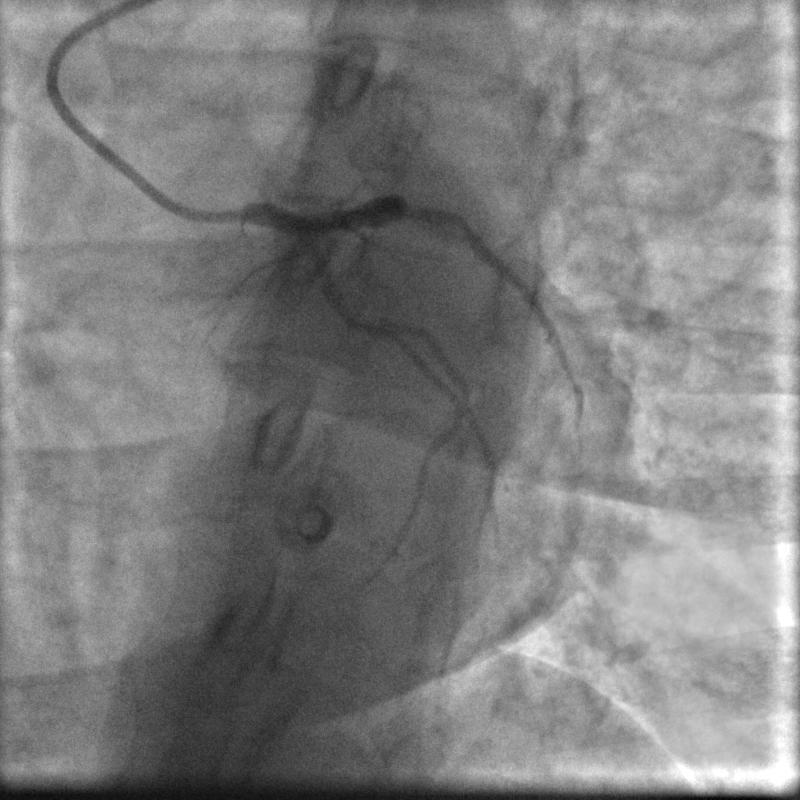Stenosis: (339, 299, 386, 335)
